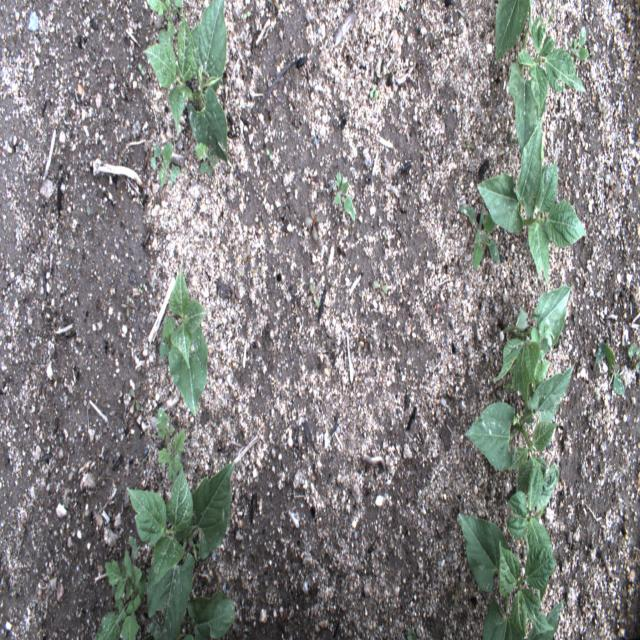crop: (127, 462, 235, 632), (477, 125, 587, 287), (145, 0, 228, 168), (462, 368, 575, 488), (459, 511, 564, 639), (507, 0, 583, 153), (493, 282, 574, 402), (159, 268, 209, 418), (141, 588, 237, 640), (508, 462, 560, 553), (493, 0, 532, 68)
weed: (94, 534, 146, 639), (457, 206, 499, 272), (157, 406, 186, 486), (594, 341, 624, 396), (148, 0, 184, 43), (150, 142, 179, 190), (334, 173, 356, 226), (194, 142, 215, 180), (567, 25, 589, 59), (305, 209, 327, 241), (626, 344, 640, 380), (306, 284, 321, 310), (372, 278, 388, 294), (370, 82, 379, 104)
